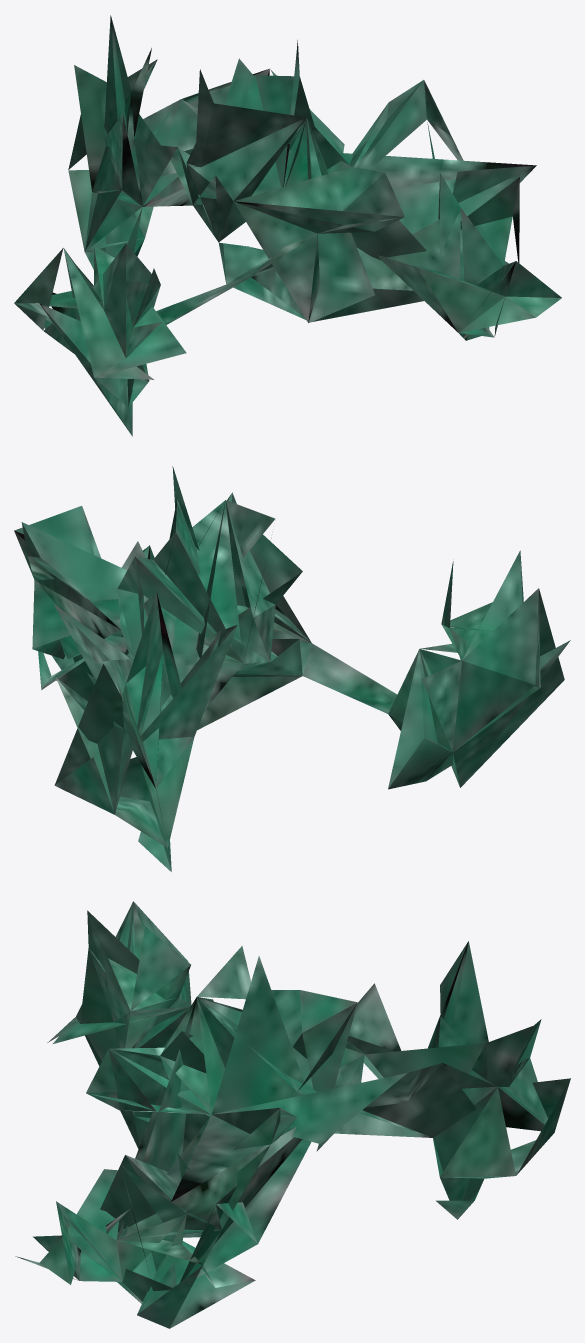
File: crystal_cluster_1827420355_lod1.glb
3 views of the same model, one above another, from view 1: azimuth 30°, elevation 25°; view 2: azimuth 150°, elevation 25°; view 3: azimuth 270°, elevation 25° (orthographic). The views are drawn at different scales.
Size of the model in its own units: 2.54 by 1.41 by 2.28.
1 material, 1 textured.
